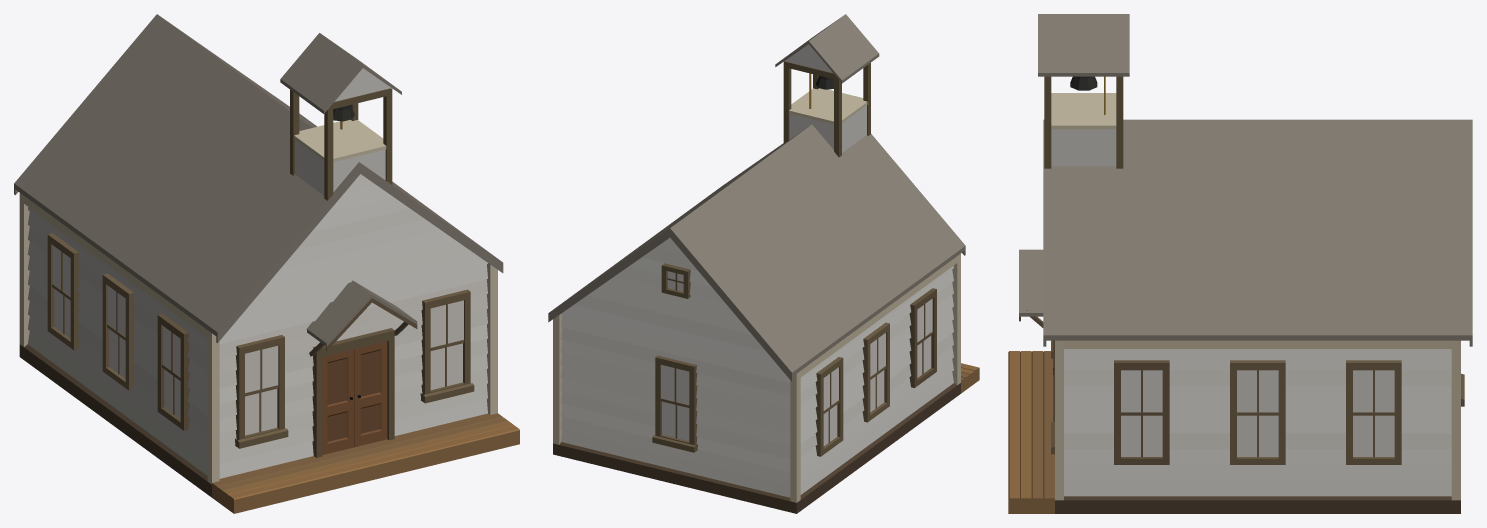
Rendered from one-room-schoolhouse-107ec9.glb.
3 views of the same model, side by side, from view 1: azimuth 30°, elevation 25°; view 2: azimuth 150°, elevation 25°; view 3: azimuth 270°, elevation 25° (orthographic). The views are drawn at different scales.
Parts seen in each view (by area): view 1: one-room-schoolhouse-107ec9; view 2: one-room-schoolhouse-107ec9; view 3: one-room-schoolhouse-107ec9.
Boxes of the visible parts, x1,y1,x2,y2 form: one-room-schoolhouse-107ec9: (14, 14, 519, 513); one-room-schoolhouse-107ec9: (548, 14, 979, 513); one-room-schoolhouse-107ec9: (1008, 14, 1472, 513).
Size of the model in its own units: 6 by 8.11 by 8.
